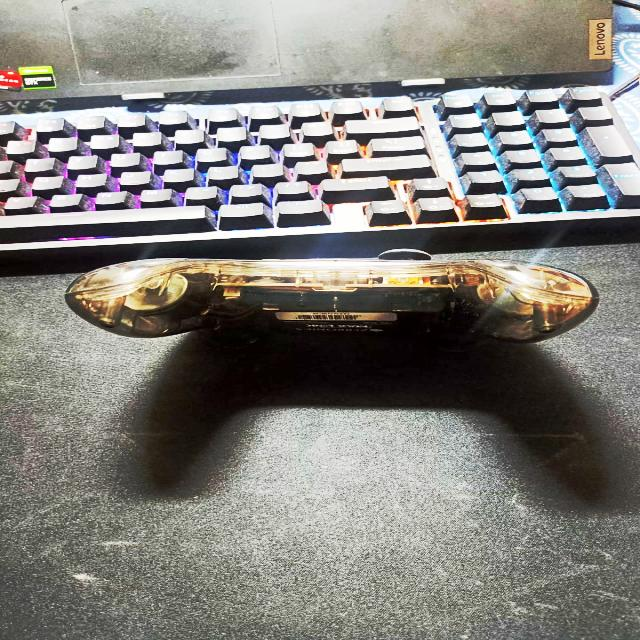gamepad: (57, 256, 612, 486)
